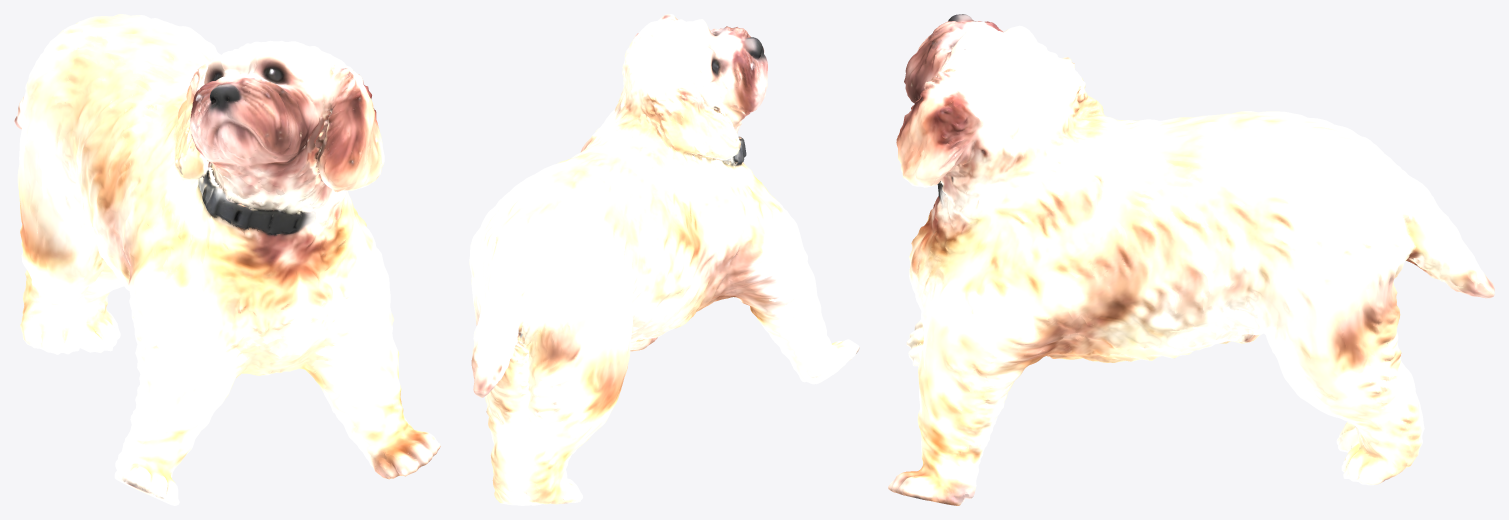
Rendered from sleep_pose_v9.glb.
3 renders of one model, left to right at view 1: azimuth 30°, elevation 25°; view 2: azimuth 150°, elevation 25°; view 3: azimuth 270°, elevation 25°, orthographic. The views are drawn at different scales.
Parts seen in each view (by area): view 1: char1; view 2: char1; view 3: char1.
Part boxes in pixels (<box>): char1: <box>14,14,440,505</box>; char1: <box>469,14,859,505</box>; char1: <box>888,14,1494,505</box>.
Size of the model in its own units: 0.00236 by 0.00329 by 0.0041.
1 material, 1 textured.
